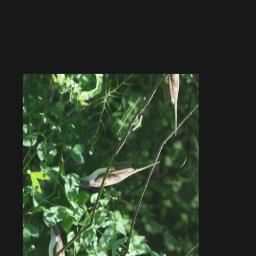Cuckoo: (75, 120, 162, 223)
